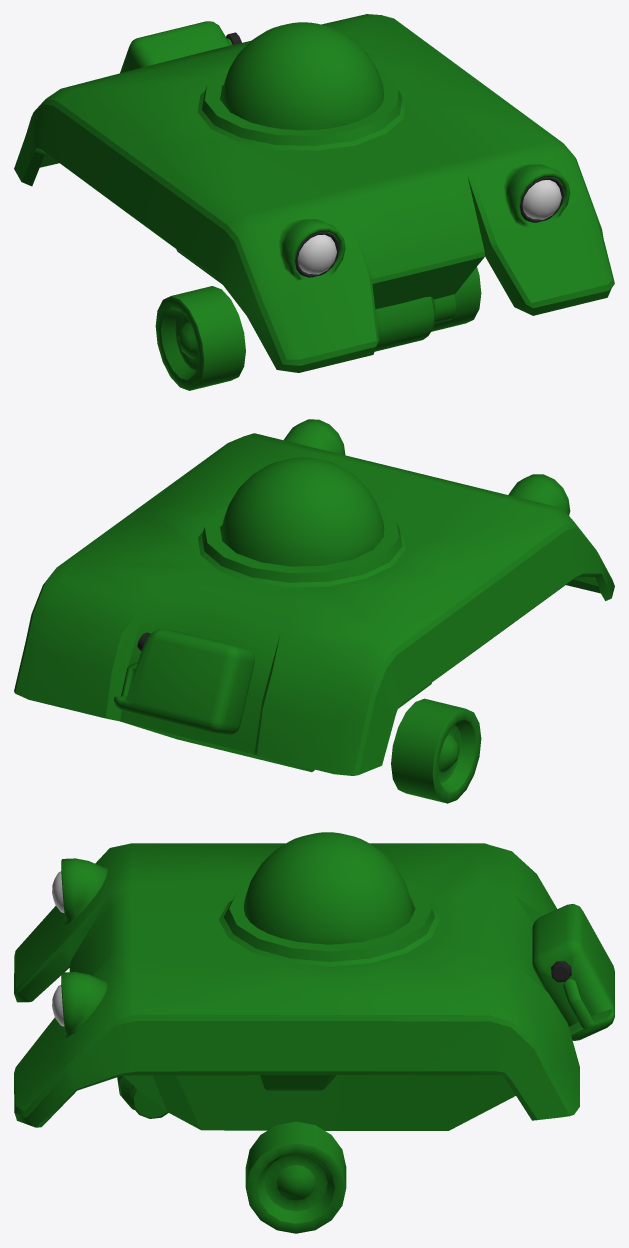
The model's file is Tank_BodyWithAxis.FBX.
The picture shows the model from 3 angles, top to bottom: view 1: azimuth 30°, elevation 25°; view 2: azimuth 150°, elevation 25°; view 3: azimuth 270°, elevation 25°; orthographic projection. The views are drawn at different scales.
Parts seen in each view (by area): view 1: TankChassis; view 2: TankChassis; view 3: TankChassis.
Boxes of the visible parts, box(x1,y1,x2,y2) form: TankChassis: box(14, 14, 614, 390); TankChassis: box(14, 419, 614, 803); TankChassis: box(14, 832, 614, 1233).
Size of the model in its own units: 432 by 357 by 601.
